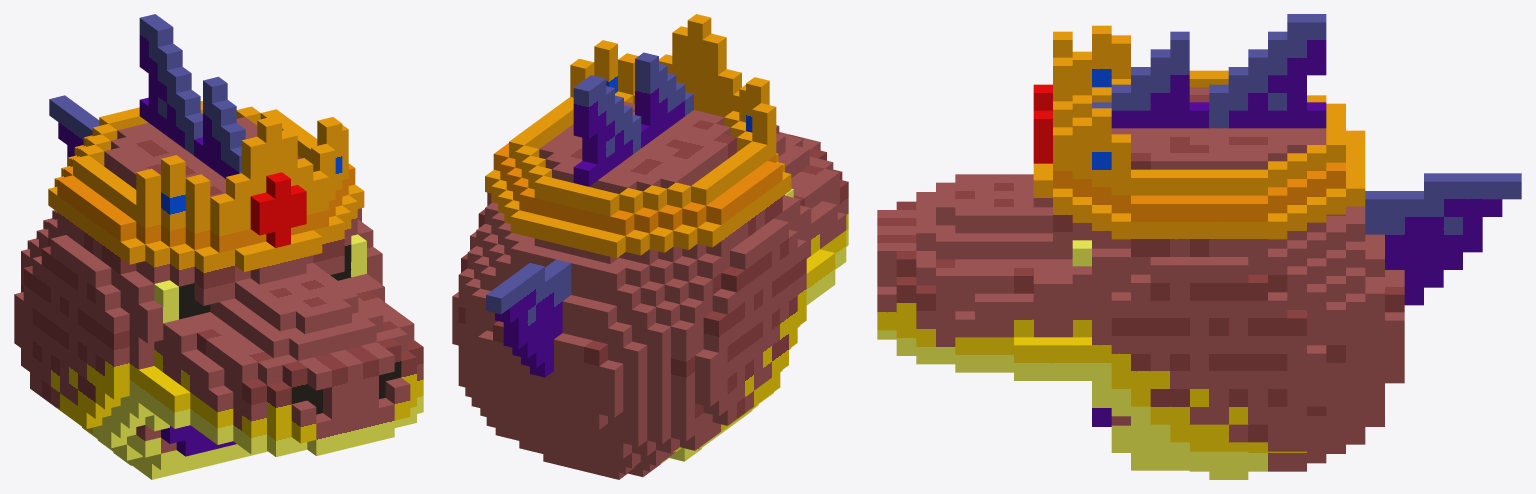
Rendered from queen crown.gltf.
The picture shows the model from 3 angles, left to right: view 1: azimuth 30°, elevation 25°; view 2: azimuth 150°, elevation 25°; view 3: azimuth 270°, elevation 25°; orthographic projection. The views are drawn at different scales.
Visible parts, largest first — view 1: 17_ZIlla_Head_Queen_Crown-Mesh; view 2: 17_ZIlla_Head_Queen_Crown-Mesh; view 3: 17_ZIlla_Head_Queen_Crown-Mesh.
Boxes of the visible parts, <box> form: 17_ZIlla_Head_Queen_Crown-Mesh: <box>14,14,423,479</box>; 17_ZIlla_Head_Queen_Crown-Mesh: <box>452,14,848,479</box>; 17_ZIlla_Head_Queen_Crown-Mesh: <box>877,14,1521,479</box>.
Bounding box in the file's own units: 17 × 24 × 33.
Materials: 1 (1 with a texture image).
